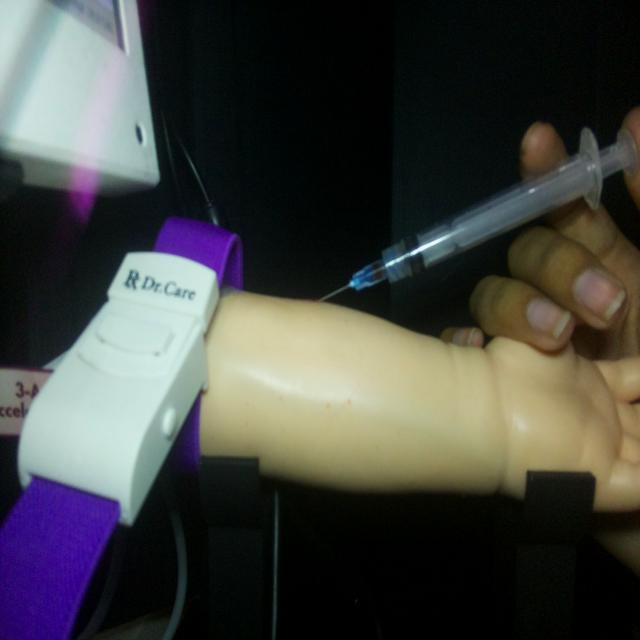17 degrees: (316, 122, 636, 305)
